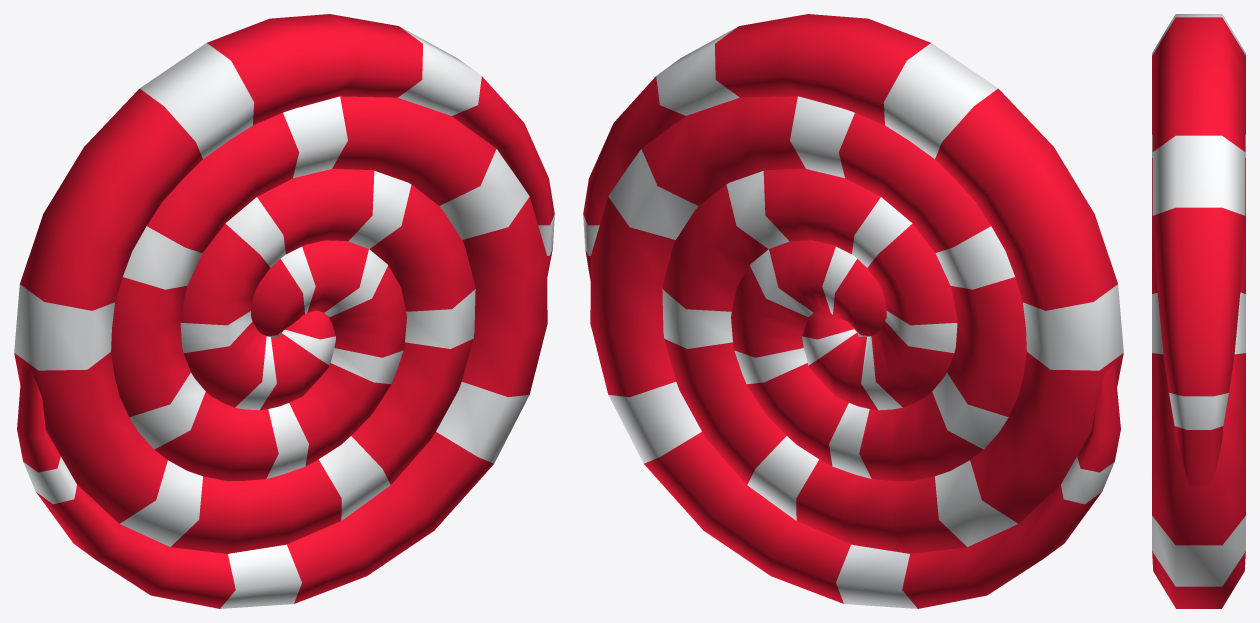
File: lollipop_015.glb
3 views of the same model, side by side, from view 1: azimuth 30°, elevation 25°; view 2: azimuth 150°, elevation 25°; view 3: azimuth 270°, elevation 25° (orthographic). The views are drawn at different scales.
Visible parts, largest first — view 1: lollipop_015; view 2: lollipop_015; view 3: lollipop_015.
Part boxes in pixels (bbox=[...]): lollipop_015: bbox=[14, 14, 554, 608]; lollipop_015: bbox=[583, 14, 1123, 608]; lollipop_015: bbox=[1152, 14, 1245, 608].
Size of the model in its own units: 4.1 by 4.25 by 0.6662.
1 material, 1 textured.
